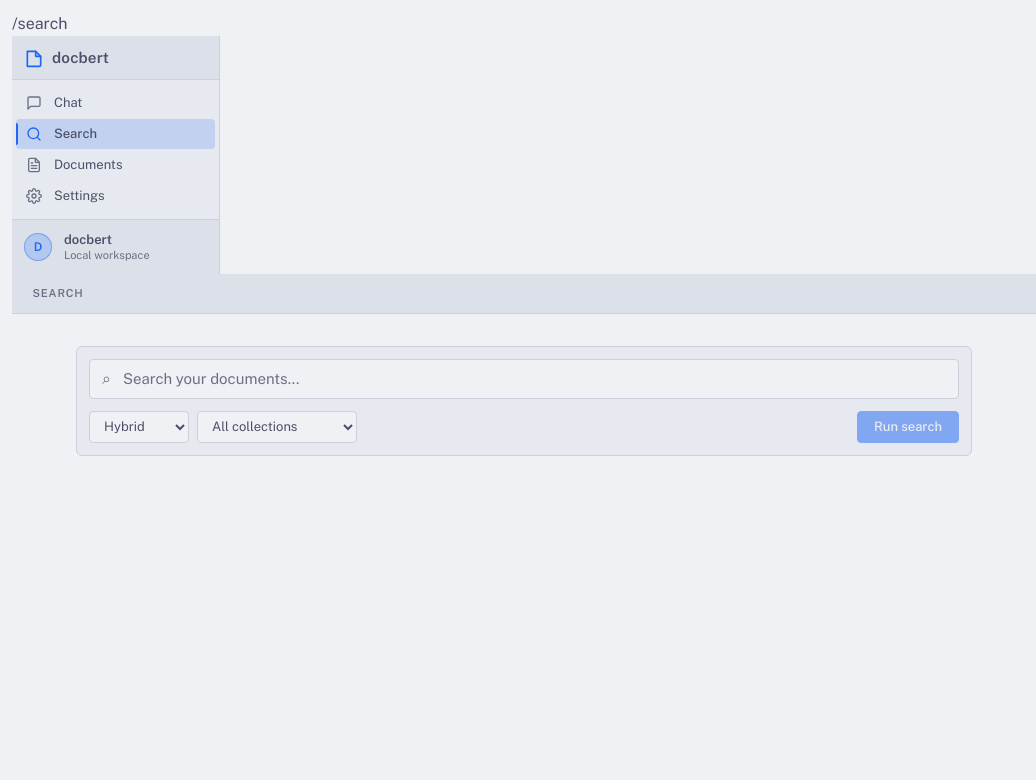
Search page › excerpt links navigate to the existing documents route
In the search field named "Query": (534, 379) [123, 361, 946, 397], type "rust"
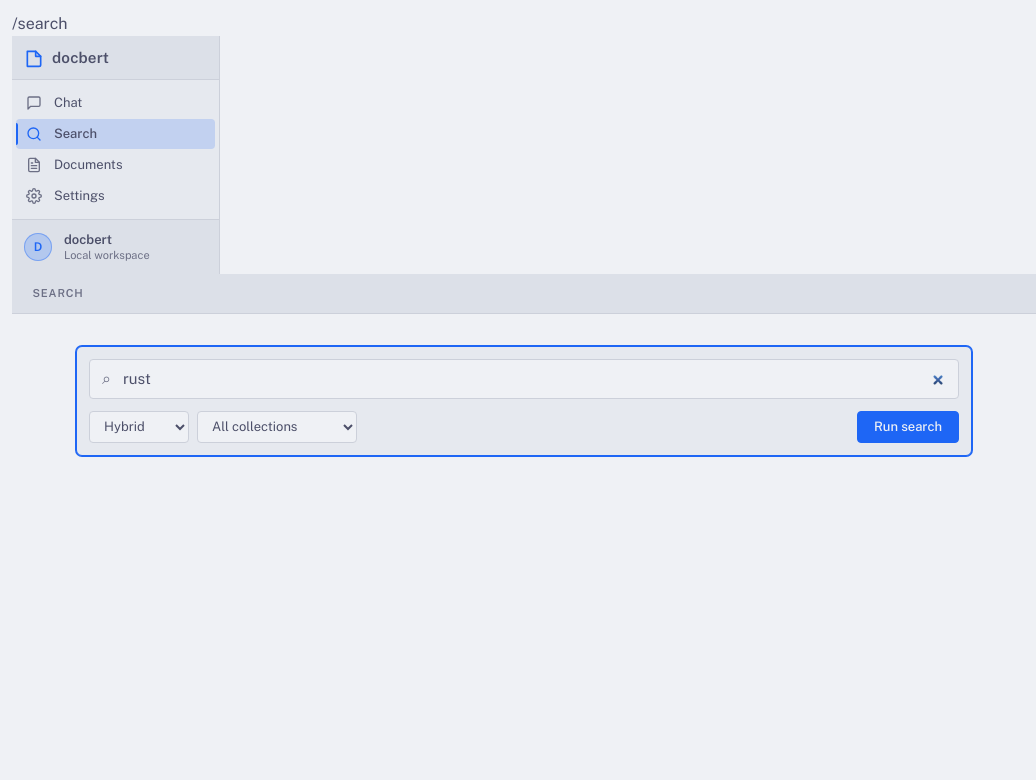
Click the button "Run search": (908, 427) [857, 411, 959, 443]
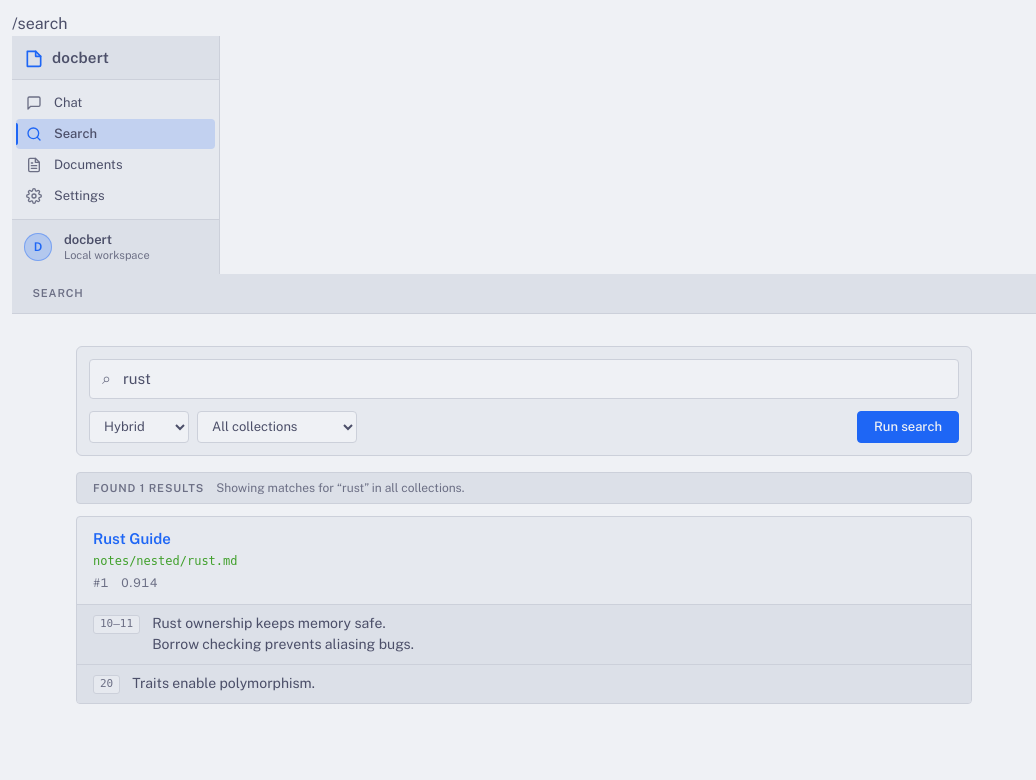
Now the 7th link is shown
Click the 7th link: (253, 634) [93, 615, 414, 652]
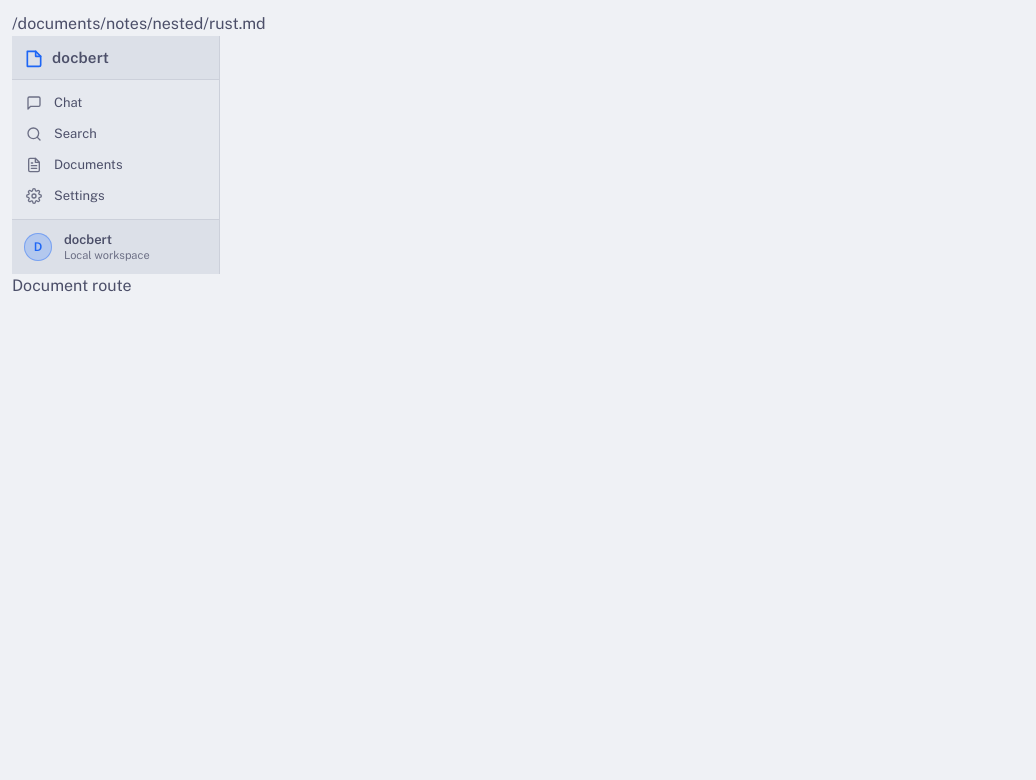
Now the text "Document route" is shown, box [12, 276, 132, 295]
Now the text with test id "location-path" reads "/documents/notes/nested/rust.md", box [12, 14, 266, 33]
